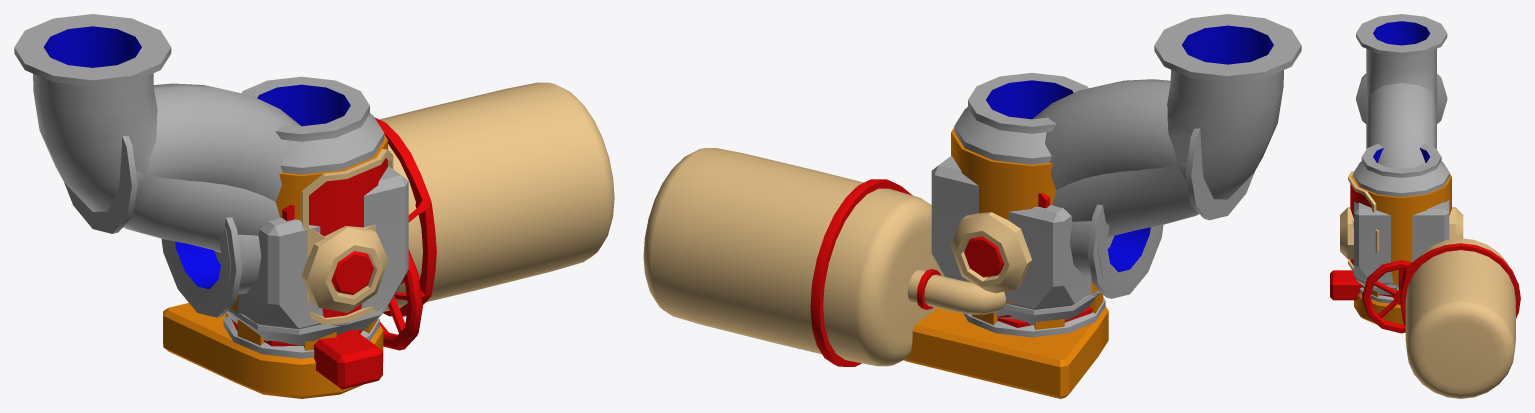
The model's file is pipies.fbx.
3 renders of one model, left to right at view 1: azimuth 30°, elevation 25°; view 2: azimuth 150°, elevation 25°; view 3: azimuth 270°, elevation 25°, orthographic. The views are drawn at different scales.
Visible parts, largest first — view 1: Decor_13, PIPE_S, SPC_End, PIPE_longL, SPC_junction, Decor_12, PIPE_T_Three, PIPE_T_S, PIPE_T_longL, Decor_11, PIPE_T_Long, PIPE_T_shortL (+4 smaller); view 2: Decor_13, PIPE_S, SPC_End, Decor_12, PIPE_longL, SPC_junction, PIPE_T_Three, PIPE_T_longL, PIPE_T_S, PIPE_T_shortL, PIPE_T_Long, PIPE_Three (+1 smaller); view 3: Decor_13, SPC_End, SPC_junction, PIPE_longL, PIPE_S, PIPE_T_S, PIPE_T_longL, Decor_02, PIPE_T_Long, Decor_11, Decor_12, PIPE_T_Three.
Boxes of the visible parts, x1,y1,x2,y2 form: Decor_13: (374,82,614,316); PIPE_S: (33,22,279,252); SPC_End: (214,166,408,345); PIPE_longL: (91,83,300,215); SPC_junction: (229,94,393,325); Decor_12: (163,303,383,398); PIPE_T_Three: (166,86,369,307); PIPE_T_S: (14,14,314,356); PIPE_T_longL: (64,111,379,358); Decor_11: (314,334,382,389); PIPE_T_Long: (241,76,369,137); PIPE_T_shortL: (161,217,313,356); Decor_13: (643,148,1011,366); PIPE_S: (1052,21,1283,237); SPC_End: (931,155,1113,325); Decor_12: (904,306,1108,398); PIPE_longL: (1032,79,1230,203); SPC_junction: (951,107,1100,304); PIPE_T_Three: (967,82,1159,289); PIPE_T_longL: (963,104,1254,337); PIPE_T_S: (1007,14,1301,335); PIPE_T_shortL: (989,204,1163,337); PIPE_T_Long: (968,73,1088,129); PIPE_Three: (997,82,1088,248); Decor_13: (1400,238,1520,398); SPC_End: (1340,200,1463,295); SPC_junction: (1348,161,1451,287); PIPE_longL: (1366,83,1436,168); PIPE_S: (1366,18,1436,104); PIPE_T_S: (1356,14,1447,56); PIPE_T_longL: (1356,74,1447,303); Decor_02: (1362,260,1411,333); PIPE_T_Long: (1361,143,1441,175); Decor_11: (1330,270,1361,300); Decor_12: (1354,292,1403,324); PIPE_T_Three: (1361,149,1441,177).
Size of the model in its own units: 11.57 by 6.99 by 5.42.
